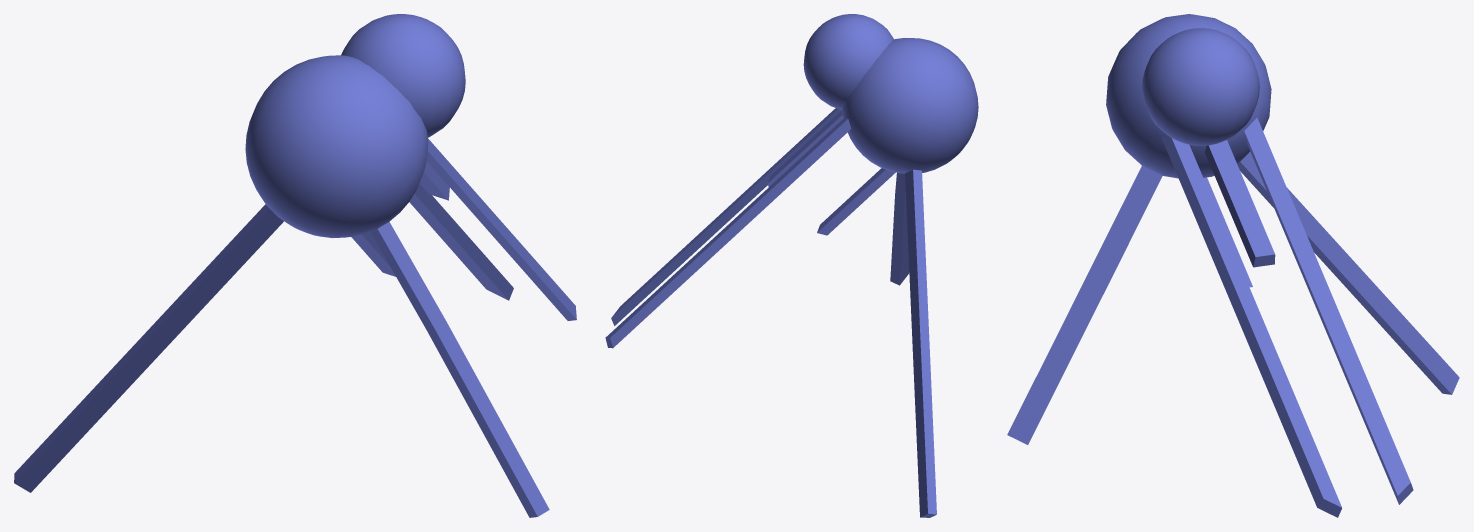
The model's file is CuteGiraffe.fbx.
3 renders of one model, left to right at view 1: azimuth 30°, elevation 25°; view 2: azimuth 150°, elevation 25°; view 3: azimuth 270°, elevation 25°, orthographic. The views are drawn at different scales.
Parts seen in each view (by area): view 1: pSphere1, pSphere2; view 2: pSphere1, pSphere2; view 3: pSphere1, pSphere2.
Part boxes in pixels (x1,y1,x2,y2): pSphere1: [14, 55, 576, 517]; pSphere2: [341, 14, 465, 137]; pSphere1: [605, 38, 978, 517]; pSphere2: [803, 14, 893, 109]; pSphere1: [1007, 14, 1459, 517]; pSphere2: [1142, 28, 1259, 145].
Bounding box in the file's own units: 6.24 × 6.18 × 5.44.
